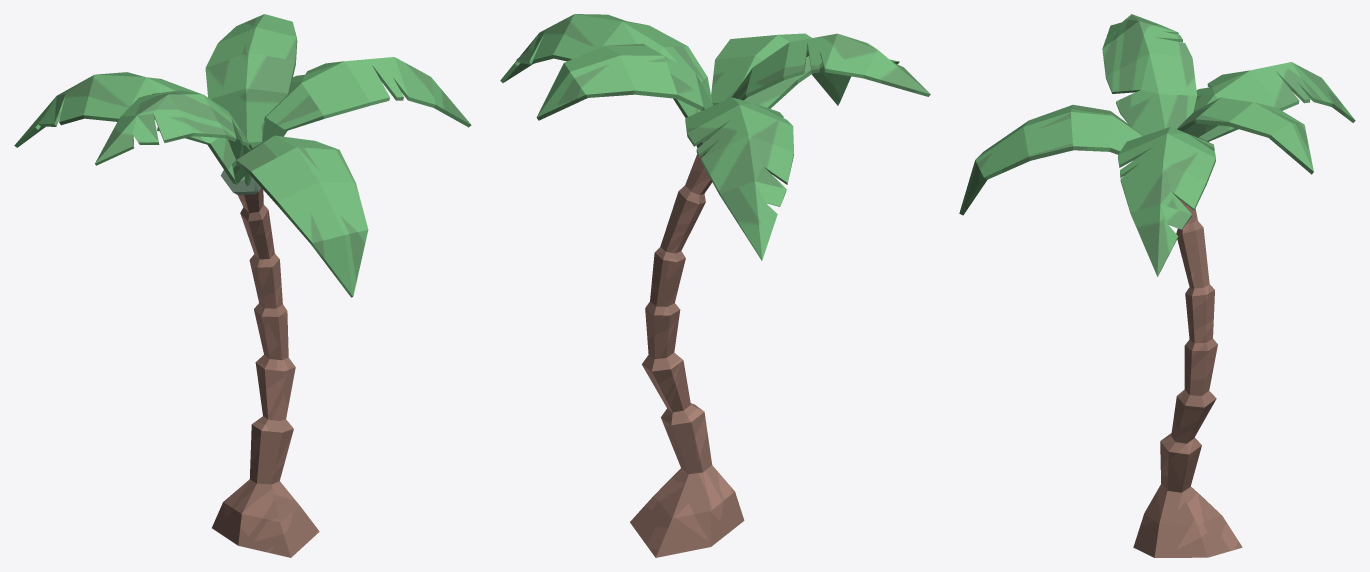
The model's file is msh_TreePalm.fbx.
3 renders of one model, left to right at view 1: azimuth 30°, elevation 25°; view 2: azimuth 150°, elevation 25°; view 3: azimuth 270°, elevation 25°, orthographic. The views are drawn at different scales.
Visible parts, largest first — view 1: Cube.011, Plane, Plane.001, Plane.003, Plane.004, Plane.002; view 2: Cube.011, Plane.002, Plane.003, Plane.004, Plane.001, Plane; view 3: Cube.011, Plane.001, Plane.004, Plane, Plane.002, Plane.003.
Boxes of the visible parts, bbox=[...] form: Cube.011: bbox=[212, 187, 319, 557]; Plane: bbox=[232, 135, 368, 297]; Plane.001: bbox=[261, 57, 471, 142]; Plane.003: bbox=[205, 14, 297, 147]; Plane.004: bbox=[95, 90, 252, 186]; Plane.002: bbox=[14, 72, 244, 184]; Cube.011: bbox=[630, 154, 744, 557]; Plane.002: bbox=[685, 97, 793, 260]; Plane.003: bbox=[536, 43, 713, 120]; Plane.004: bbox=[732, 33, 930, 100]; Plane.001: bbox=[500, 14, 712, 139]; Plane: bbox=[711, 33, 850, 108]; Cube.011: bbox=[1133, 198, 1242, 557]; Plane.001: bbox=[1118, 127, 1215, 276]; Plane.004: bbox=[1102, 14, 1197, 135]; Plane: bbox=[959, 104, 1143, 215]; Plane.002: bbox=[1194, 62, 1355, 142]; Plane.003: bbox=[1177, 97, 1313, 174].
Size of the model in its own units: 388 by 461 by 352.
